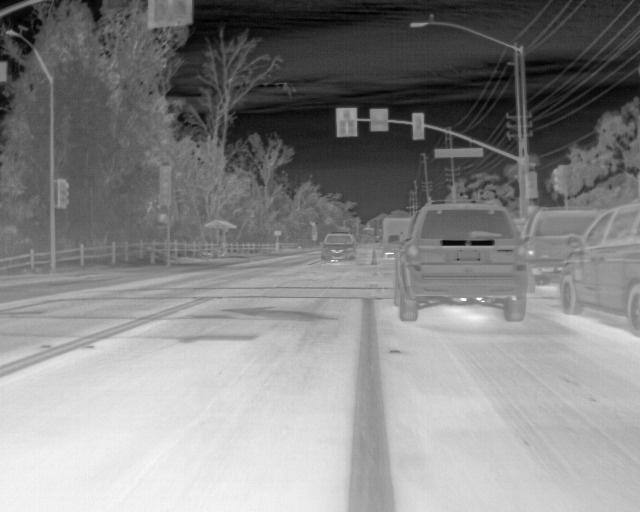car: (395, 203, 528, 325), (559, 204, 639, 337), (526, 205, 560, 292), (319, 232, 357, 265), (381, 235, 395, 257)
